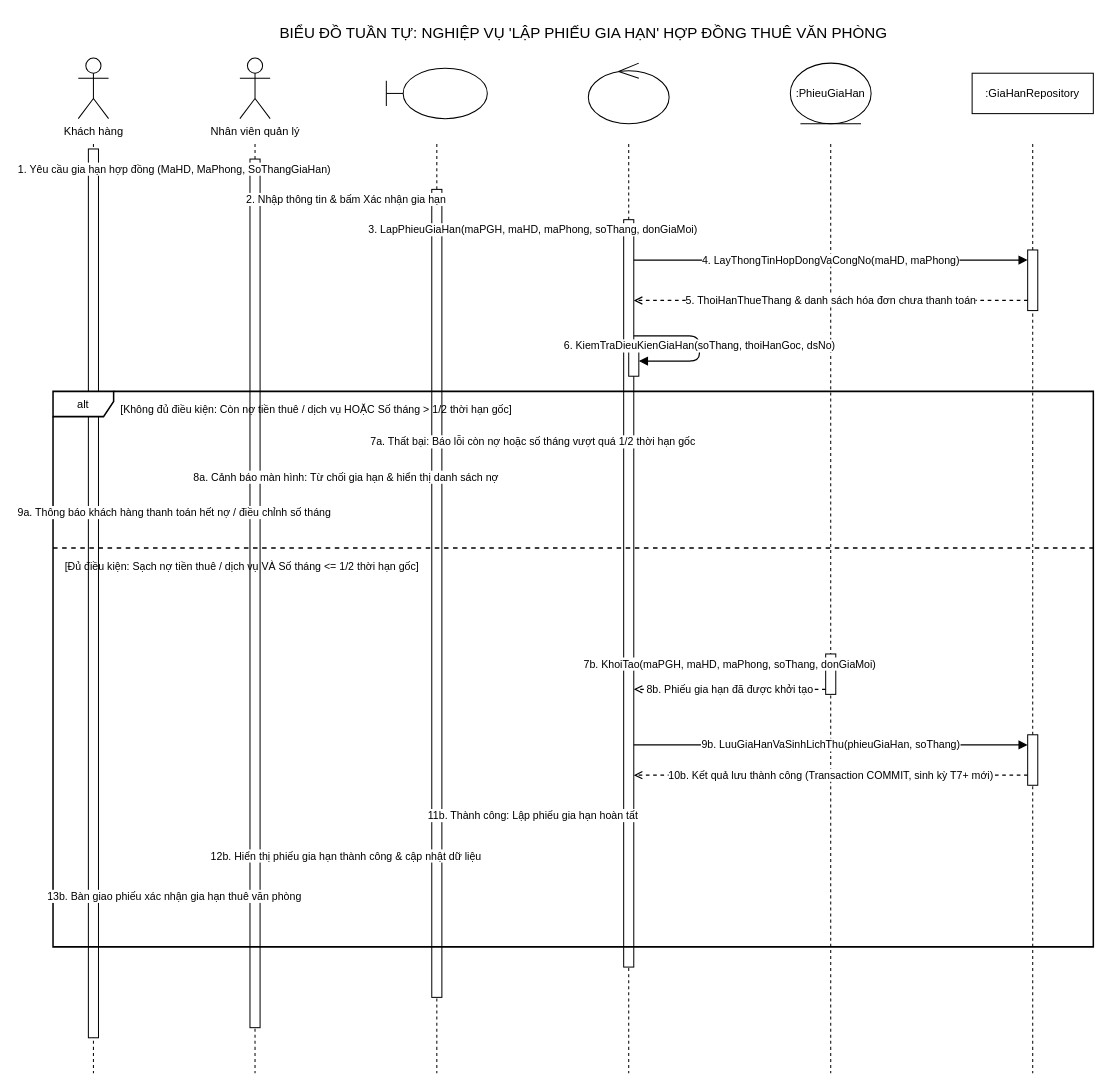
The diagram is 1111 pixels wide and 1091 high, and some of its shapes have lost their labels. Here are the shapes that lost their labels. From the top down, the centre of each, then its label:
the point at 436,93: :GiaoDienGiaHan
the point at 628,93: :GiaHanService
